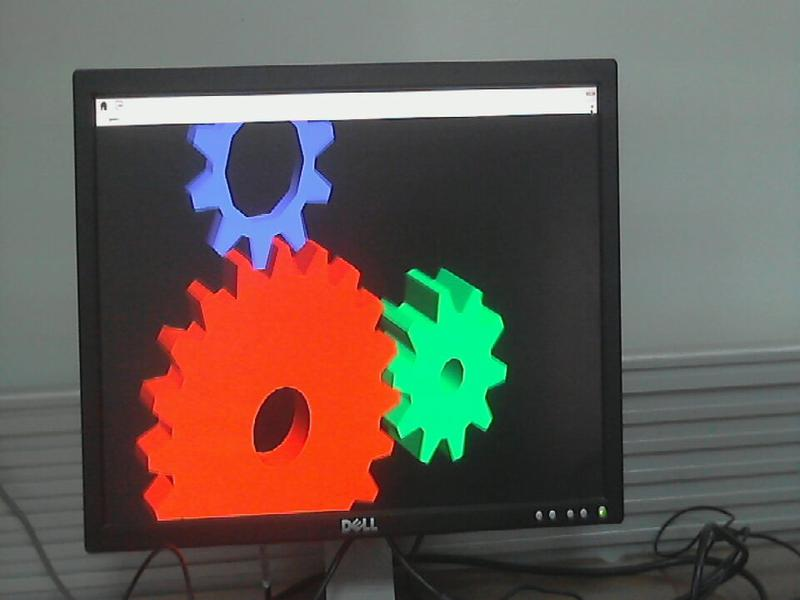glxgears_pass: (123, 125, 509, 518)
